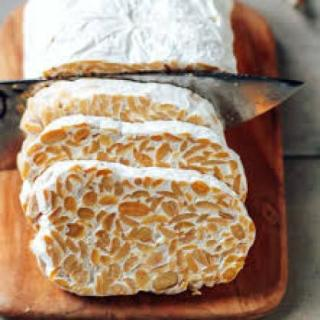Tempe: (17, 76, 260, 300)
